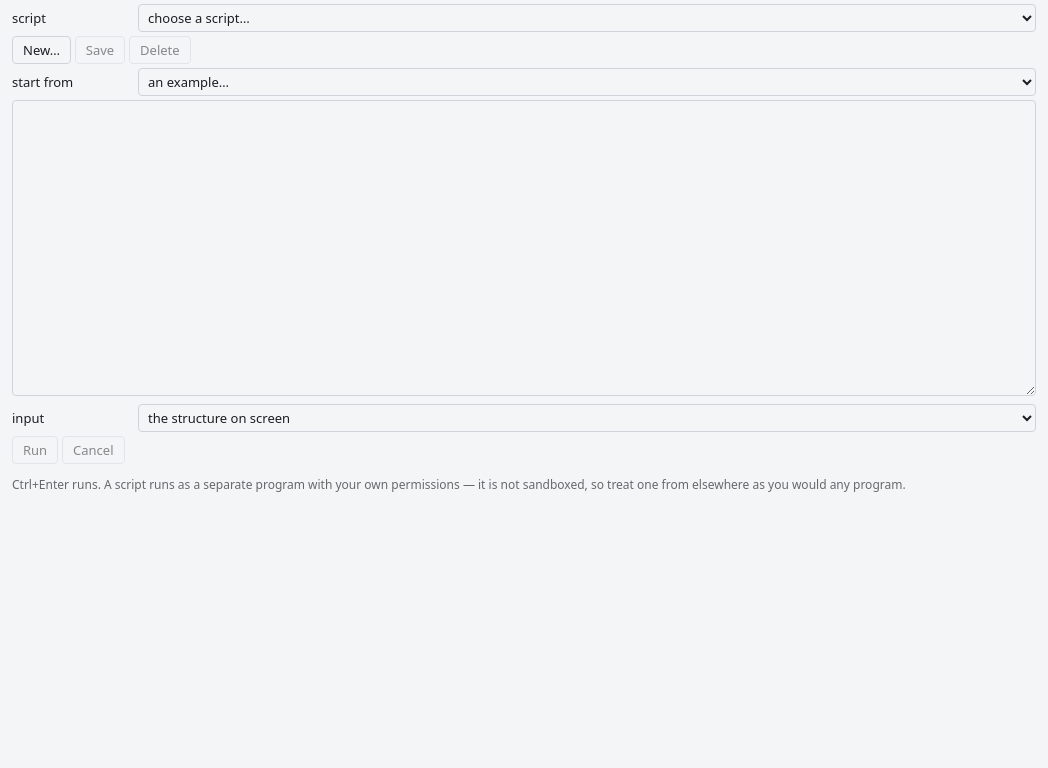
it: a traceback is shown and the run is marked failed
Select "demo.py" in the dropdown labelled "script": (587, 18) [138, 4, 1036, 32]
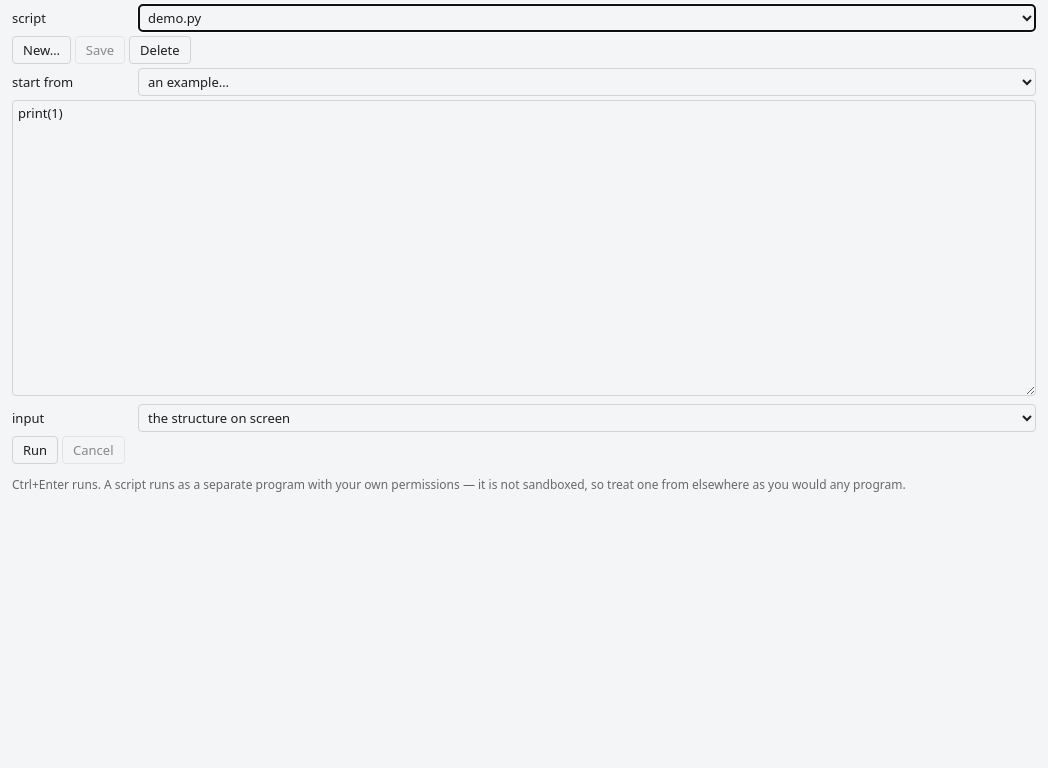
Click the button "Run": (35, 450) [12, 436, 58, 464]
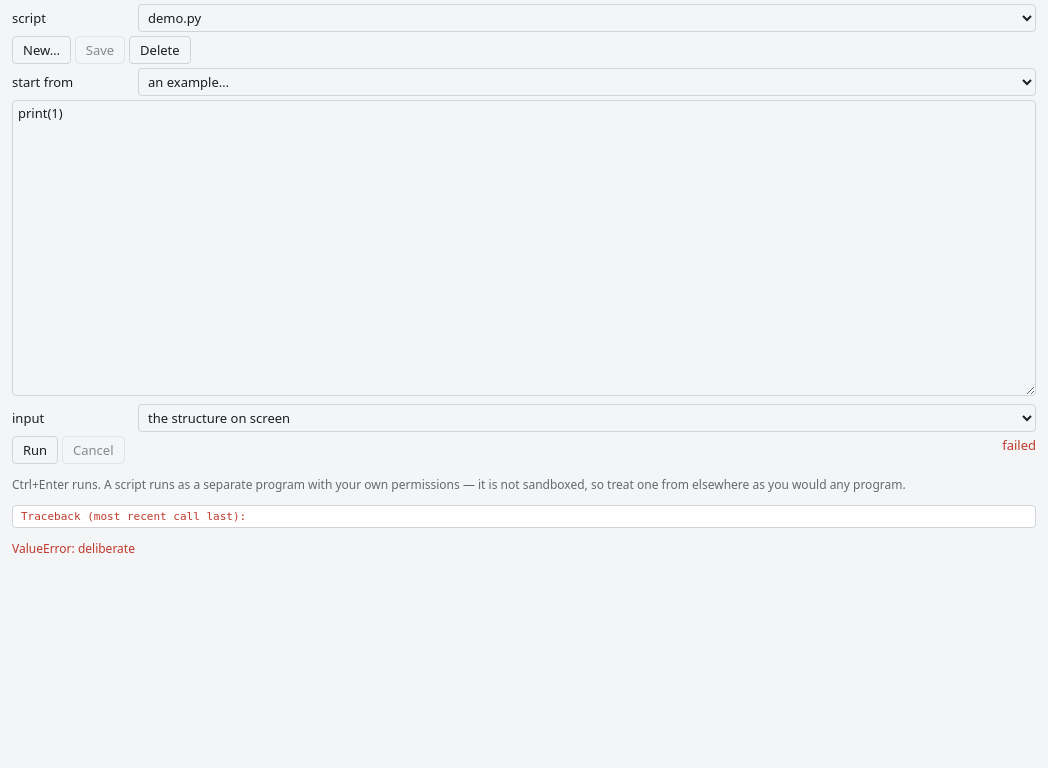
Expected: the text "ValueError: deliberate" is shown, [12, 540, 135, 557]
Expected: the text "Traceback (most recent call last):" is shown, [21, 510, 246, 523]
Expected: the message reads "failed", [1002, 436, 1036, 454]
